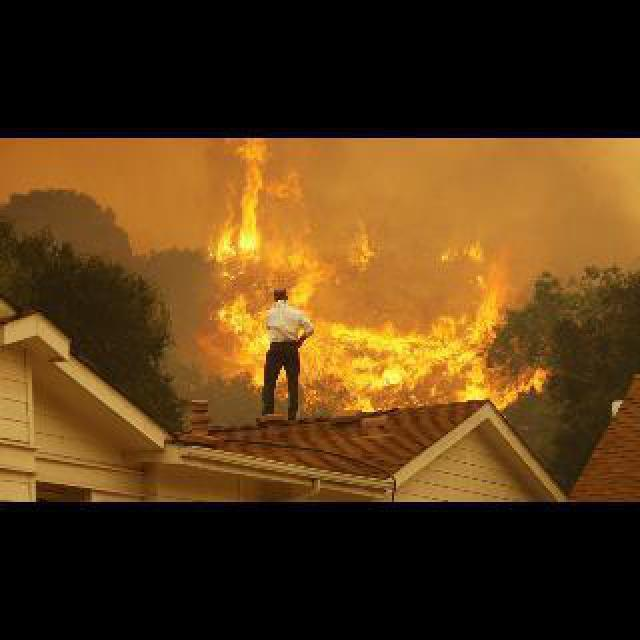fire: (494, 141, 640, 267)
smoke: (208, 140, 546, 408)
